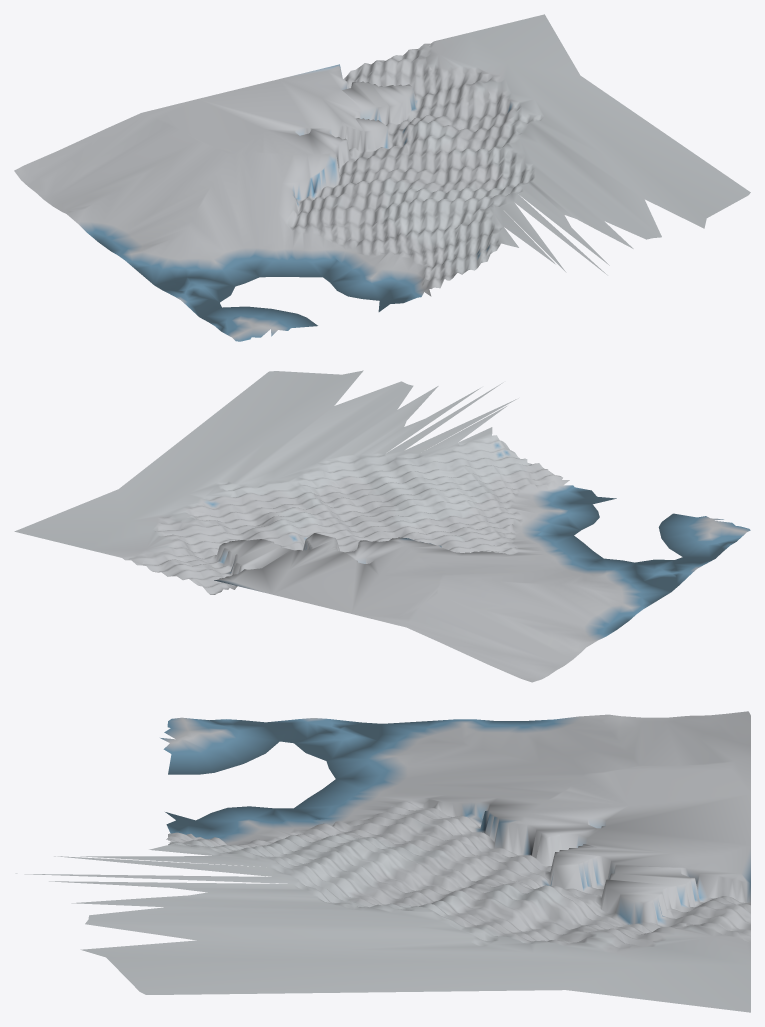
Rendered from frost_tile_x0z0_lod1.glb.
3 renders of one model, top to bottom at view 1: azimuth 30°, elevation 25°; view 2: azimuth 150°, elevation 25°; view 3: azimuth 270°, elevation 25°, orthographic. The views are drawn at different scales.
Parts seen in each view (by area): view 1: geometry_0; view 2: geometry_0; view 3: geometry_0.
Part boxes in pixels (x1,y1,x2,y2): geometry_0: (14, 14, 750, 341); geometry_0: (14, 370, 750, 682); geometry_0: (15, 711, 750, 1012).
Bounding box in the file's own units: 1023 × 67.43 × 948.
